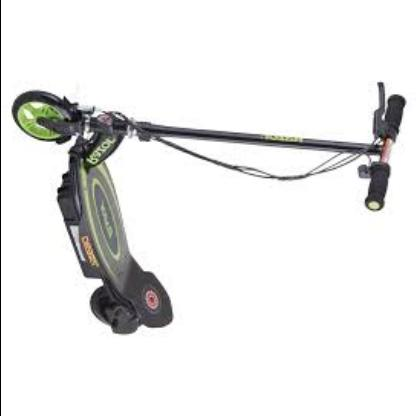bike: (12, 85, 413, 334)
